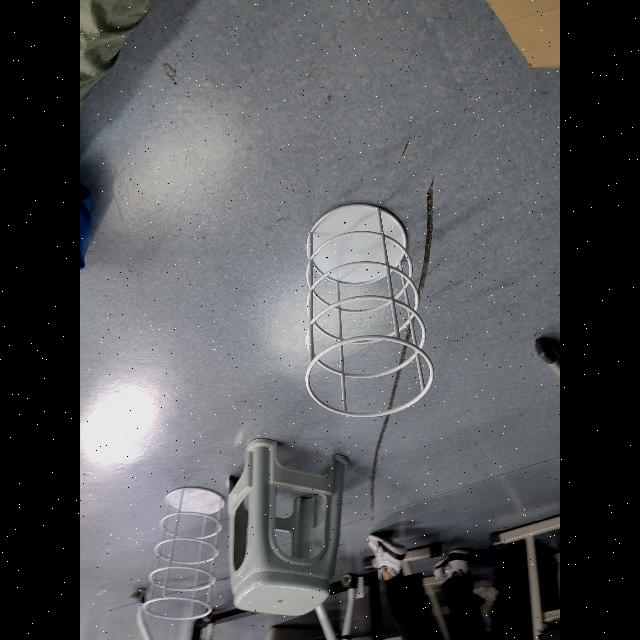S: (304, 200, 438, 420)
